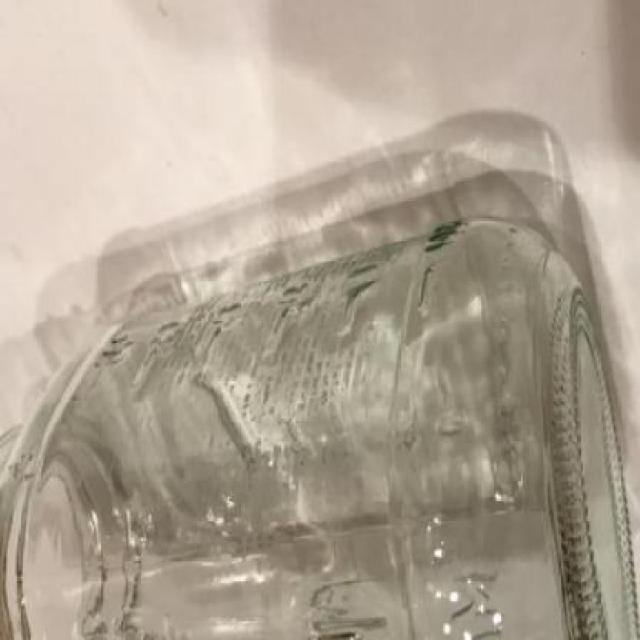kaca: (0, 215, 638, 638)
